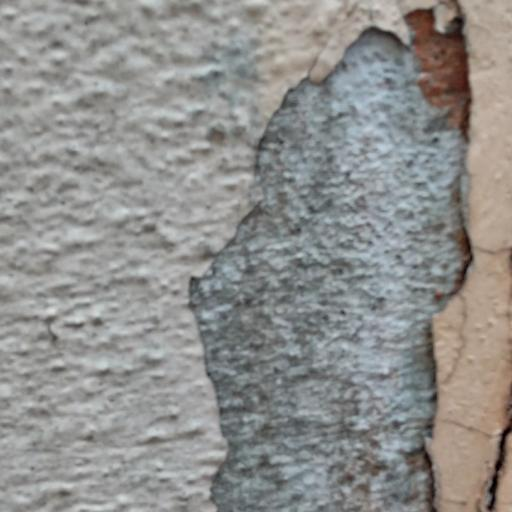peeling: (165, 10, 512, 512)
